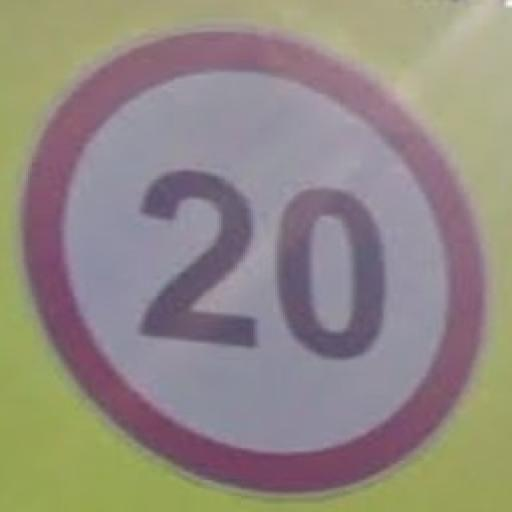traffic_sign: (17, 25, 491, 503)
